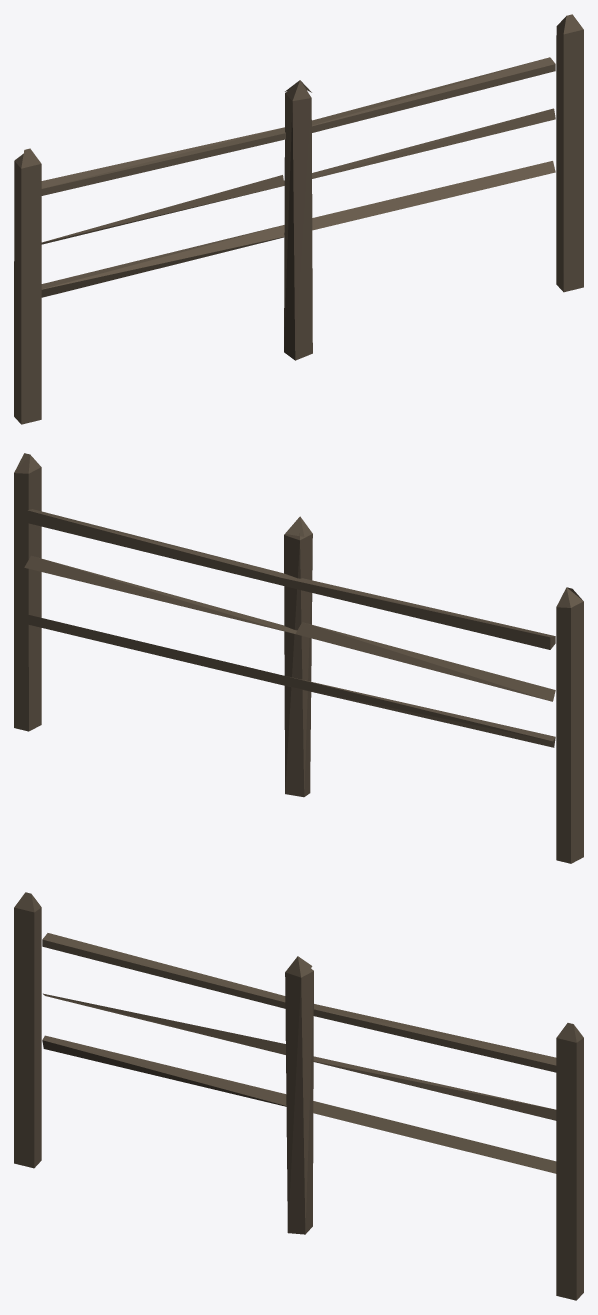
File: fence-wood-lod1.glb
3 renders of one model, top to bottom at view 1: azimuth 30°, elevation 25°; view 2: azimuth 150°, elevation 25°; view 3: azimuth 330°, elevation 25°, orthographic.
Bounding box in the file's own units: 4.15 × 1.95 × 0.1996.
